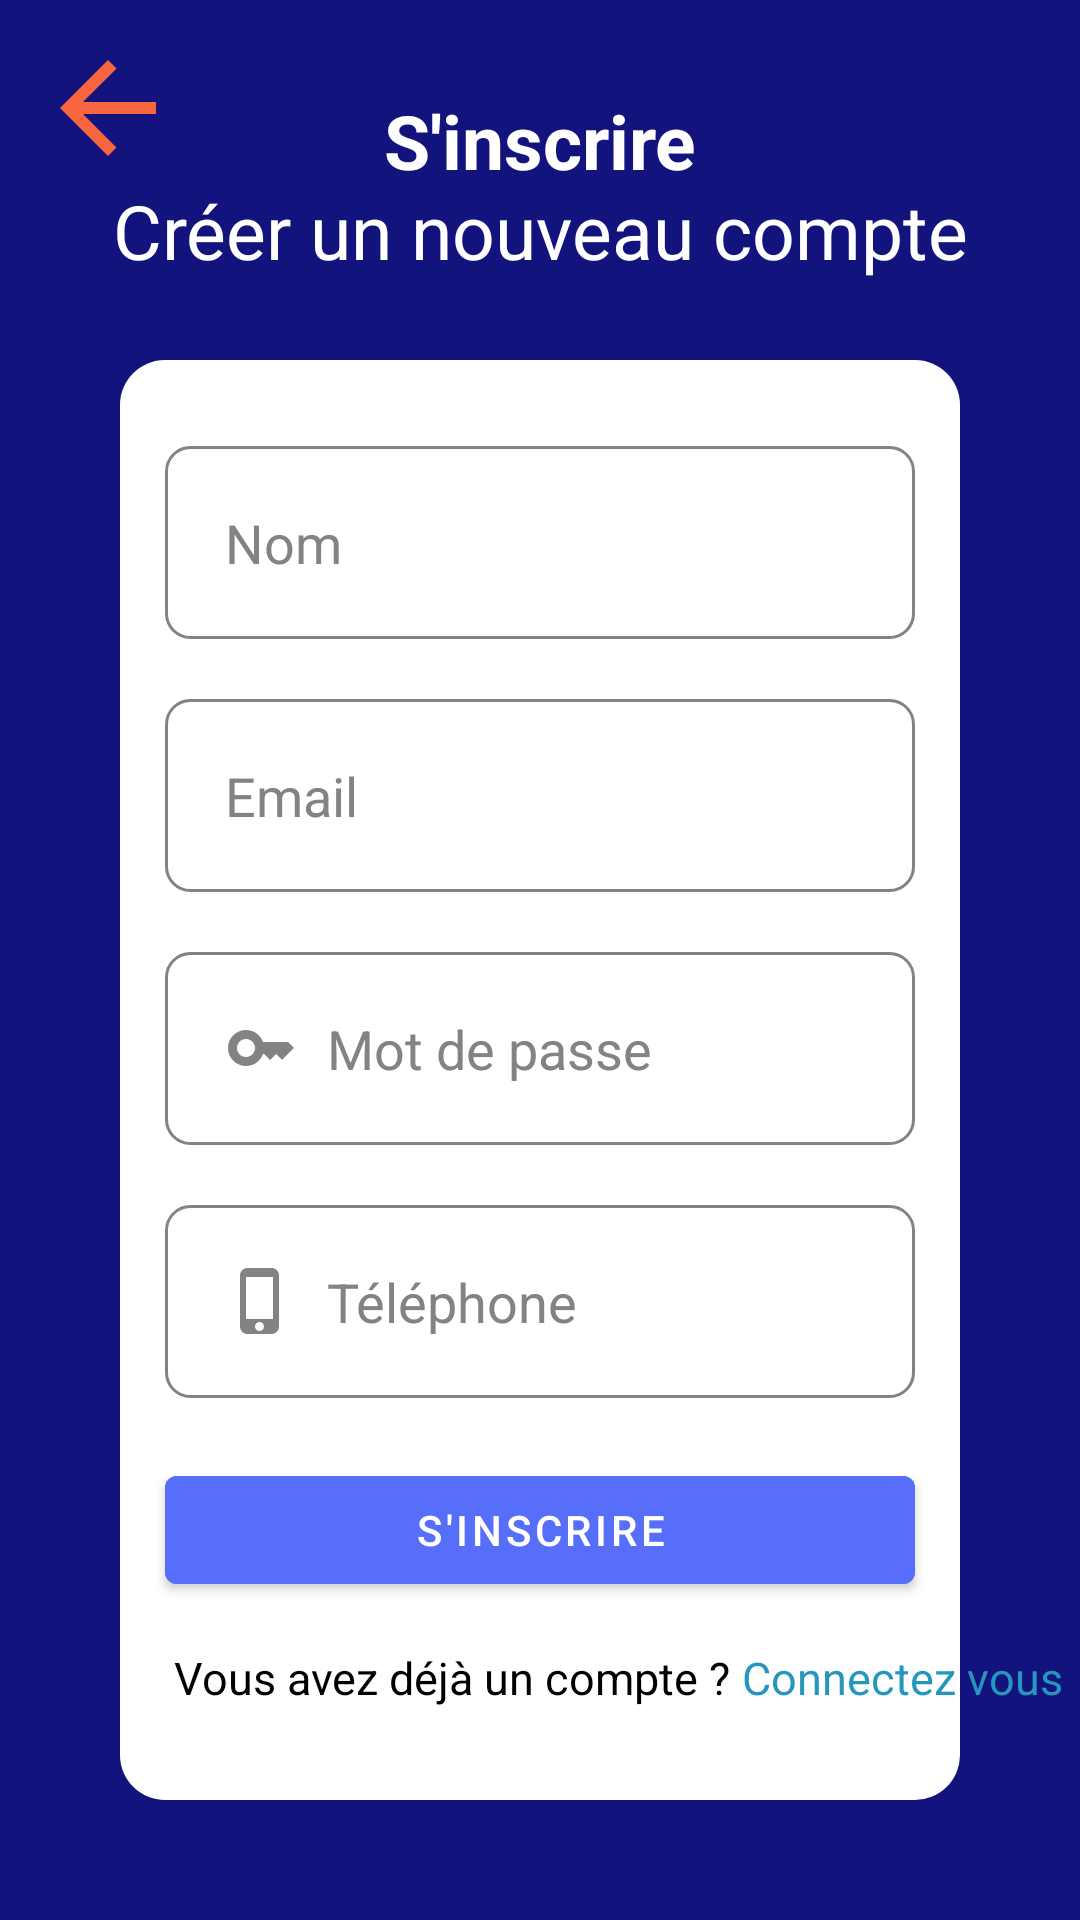

Screen size 1080 × 1920. Icon name, then its center in pixels as [x,y]:
arrow back: [108,108]
